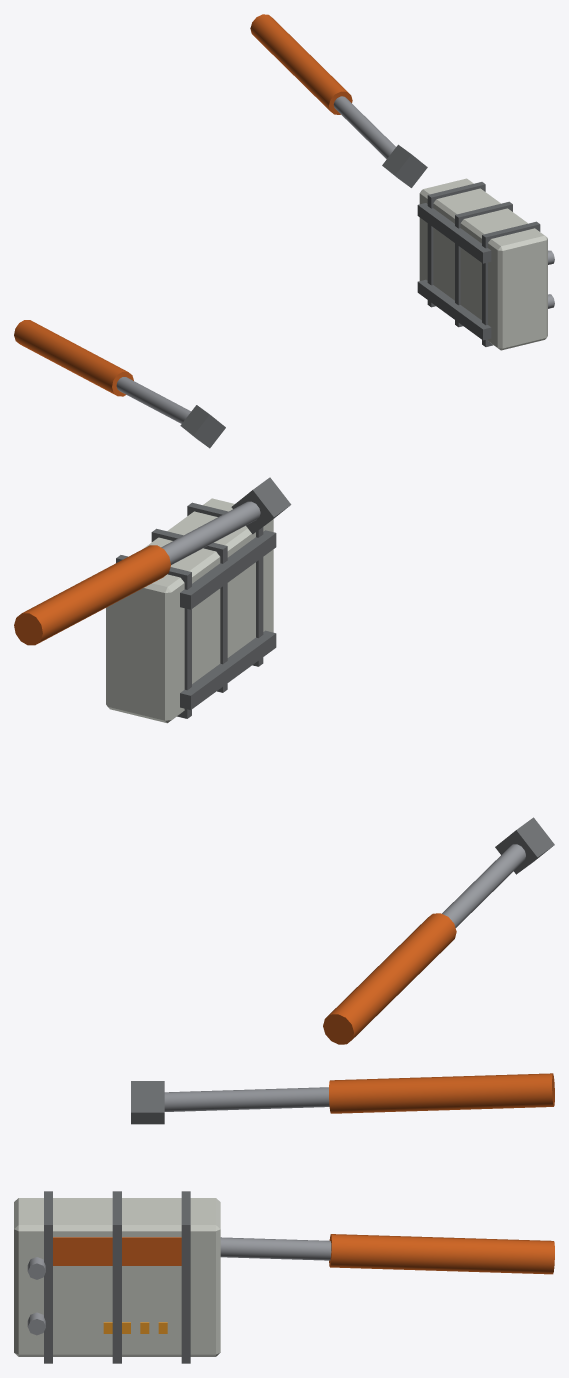
File: u65m_field_ctl.obj
3 views of the same model, one above another, from view 1: azimuth 30°, elevation 25°; view 2: azimuth 150°, elevation 25°; view 3: azimuth 270°, elevation 25° (orthographic). The views are drawn at different scales.
Visible parts, largest first — view 1: u65m_field_ctl; view 2: u65m_field_ctl; view 3: u65m_field_ctl.
Boxes of the visible parts, box(x1,y1,x2,y2) form: u65m_field_ctl: box(14, 14, 554, 448); u65m_field_ctl: box(14, 477, 554, 1044); u65m_field_ctl: box(14, 1073, 554, 1363).
Size of the model in its own units: 3.18 by 2.48 by 3.53.
